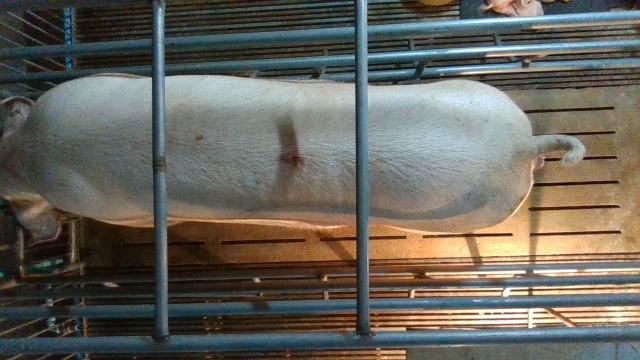piglet: (477, 0, 544, 17)
sow-stand-feed: (0, 69, 584, 243)
